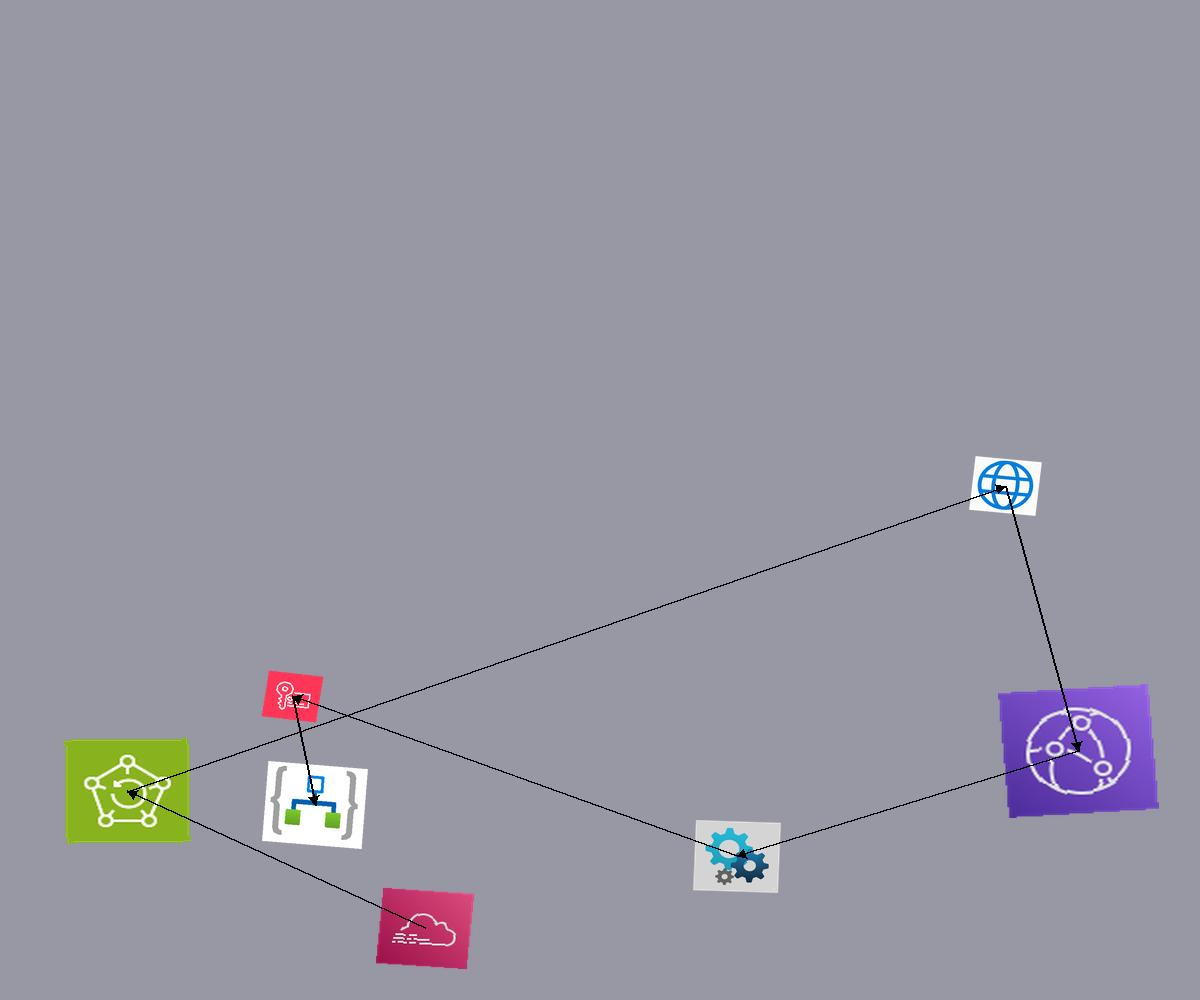AWS-Backup: (64, 738, 191, 844)
AWS-CloudFront: (998, 684, 1159, 818)
AWS-CloudTrail: (375, 887, 475, 970)
AWS-Key-Management-Service: (261, 670, 324, 723)
Azure_api: (693, 820, 781, 893)
Azure_http: (969, 456, 1042, 516)
Azure_integration-204-Logic-Apps: (262, 761, 368, 849)
